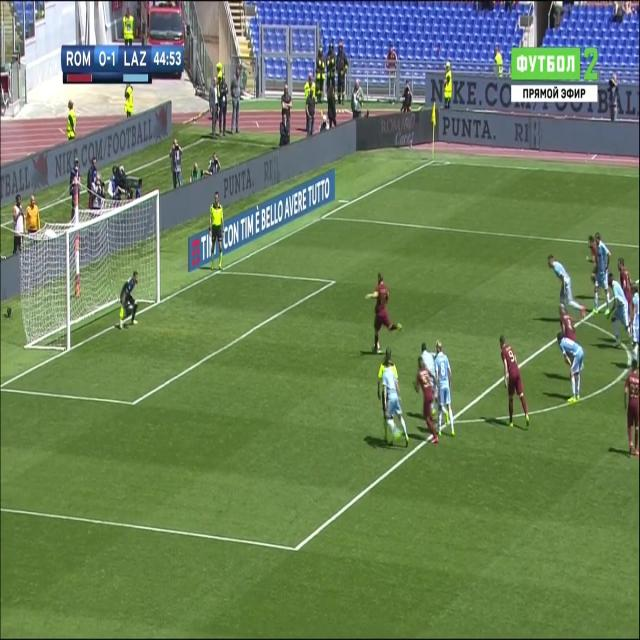Goalkeeper: (118, 264, 142, 334)
Player: (497, 333, 532, 427), (365, 270, 405, 352), (546, 250, 588, 315), (414, 355, 442, 447), (434, 338, 459, 439), (384, 362, 411, 452), (555, 330, 585, 406), (606, 271, 634, 348), (593, 230, 612, 320), (624, 358, 640, 461), (556, 300, 576, 341), (616, 253, 632, 300)
Referee: (206, 192, 226, 274)
